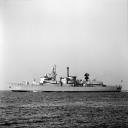Fragata: (7, 66, 124, 94)
